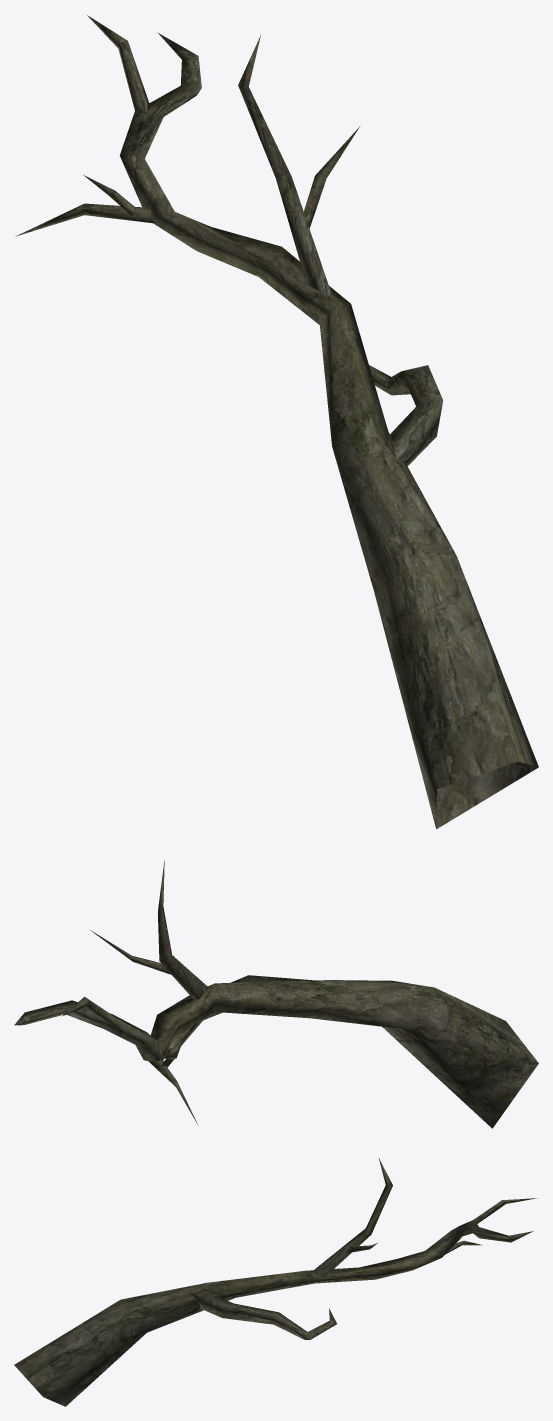
File: TI_Old_Tree_Branch_11.fbx
3 renders of one model, top to bottom at view 1: azimuth 30°, elevation 25°; view 2: azimuth 150°, elevation 25°; view 3: azimuth 270°, elevation 25°, orthographic. The views are drawn at different scales.
Visible parts, largest first — view 1: TI_Old_Tree_Branch_11; view 2: TI_Old_Tree_Branch_11; view 3: TI_Old_Tree_Branch_11.
Boxes of the visible parts, x1,y1,x2,y2 form: TI_Old_Tree_Branch_11: (15, 15, 538, 829); TI_Old_Tree_Branch_11: (14, 860, 538, 1128); TI_Old_Tree_Branch_11: (14, 1158, 537, 1406).
Size of the model in its own units: 2.08 by 4.21 by 7.1.
